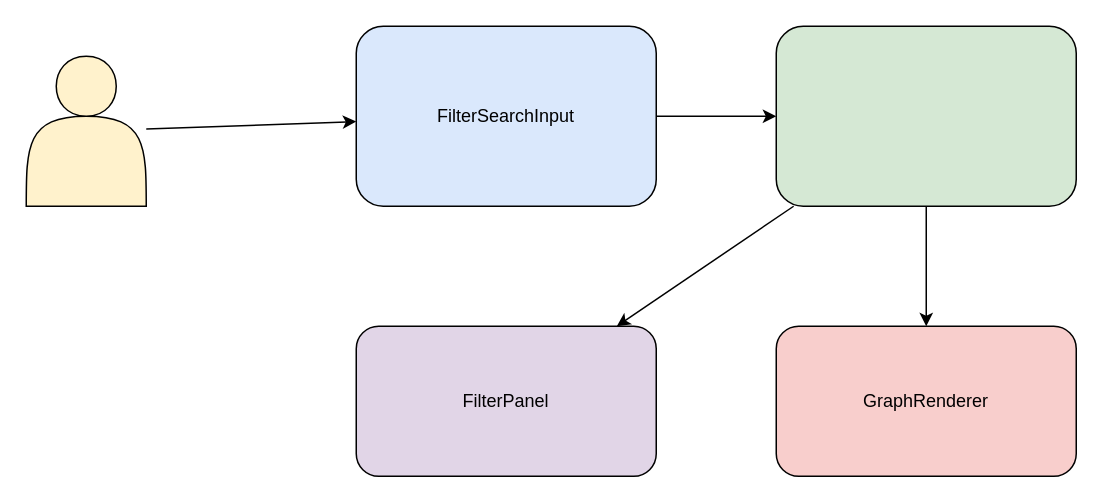
Image size: 1103x503. Some labels were removed from this diagram. The centre of each missing label's shape, as x and y in pixels:
filterStore: the point at 925,115
User: the point at 85,130
